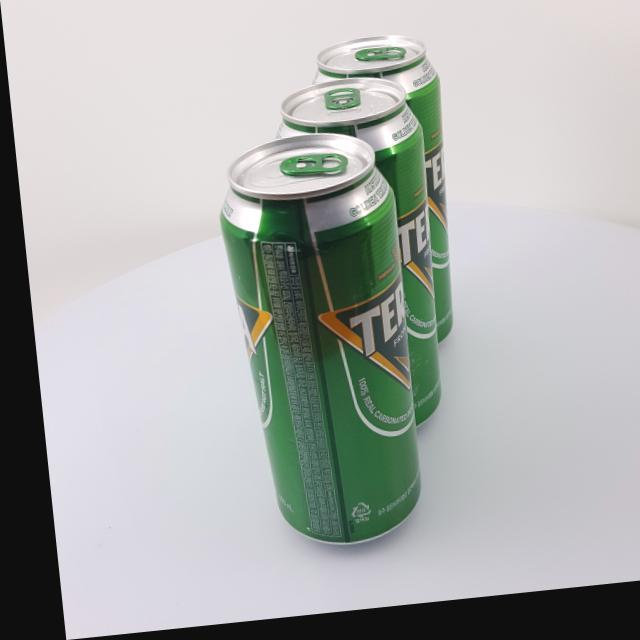beer-can: (209, 134, 418, 560), (277, 75, 441, 426), (313, 31, 453, 367)
